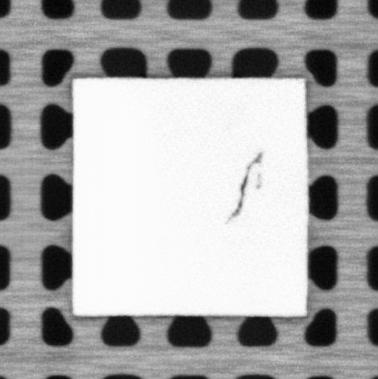DIE_INK: (224, 151, 264, 226)
